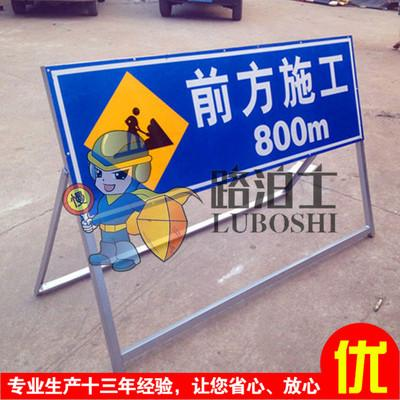sign: (43, 35, 382, 295)
